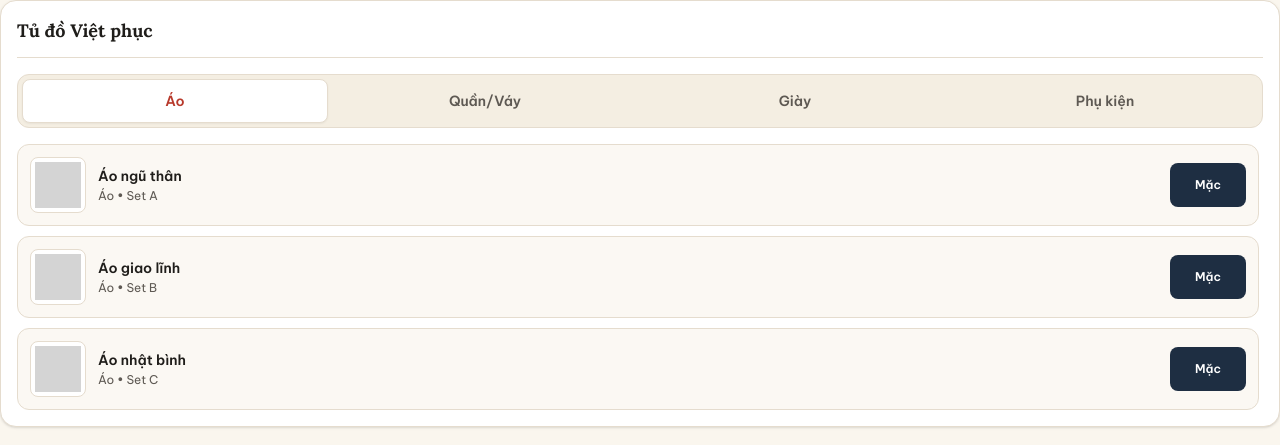
Scenario: T4: Wardrobe Tabs and Item Controls › filters items according to the active tab
The image size is (1280, 445).
Expected: the text "Áo ngũ thân" is shown, [98,166,182,186]
Expected: the text "Áo giao lĩnh" is shown, [98,258,180,278]
# Click tab "Quần/Váy" (bottoms)
Click the tab "Quần/Váy".
click(485, 101)  # box [332,79,638,123]
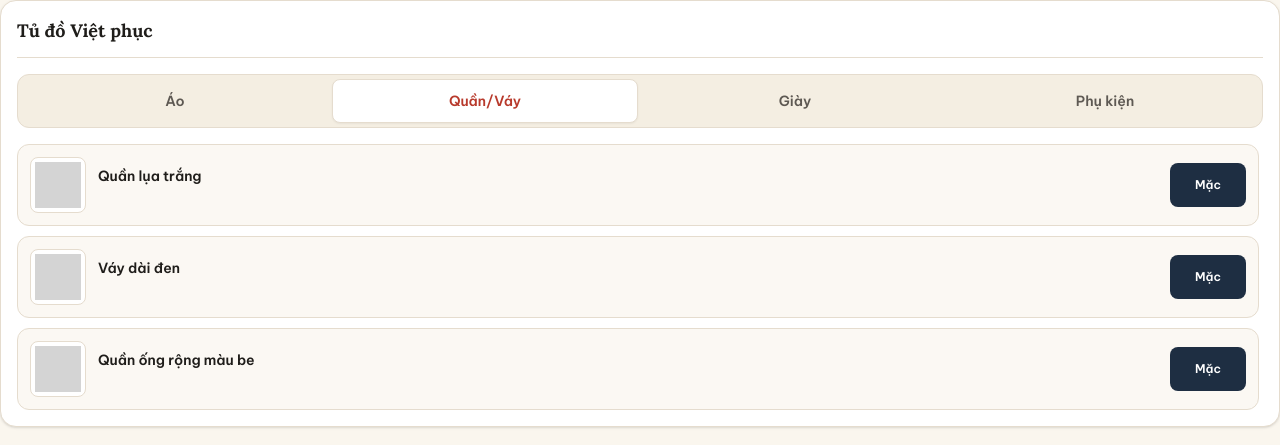
Now the text "Quần lụa trắng" is shown, box [98,166,202,186]
Now the text "Váy dài đen" is shown, box [98,258,180,278]
Now the text "Quần ống rộng màu be" is shown, box [98,350,255,370]
# Click tab "Giày" (shoes)
Click the tab "Giày".
click(795, 101)  # box [642,79,948,123]
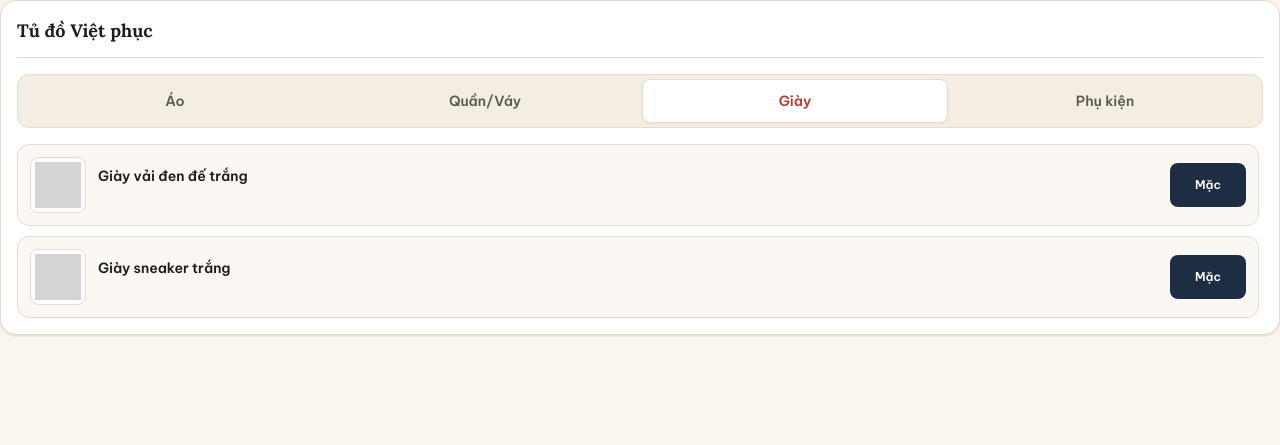
Now the text "Giày vải đen đế trắng" is shown, box [98,166,248,186]
Now the text "Giày sneaker trắng" is shown, box [98,258,230,278]
Now the text "Quần lụa trắng" is gone
# Click tab "Phụ kiện" (accessories: head)
Click the tab "Phụ kiện".
click(1105, 101)  # box [952,79,1258,123]
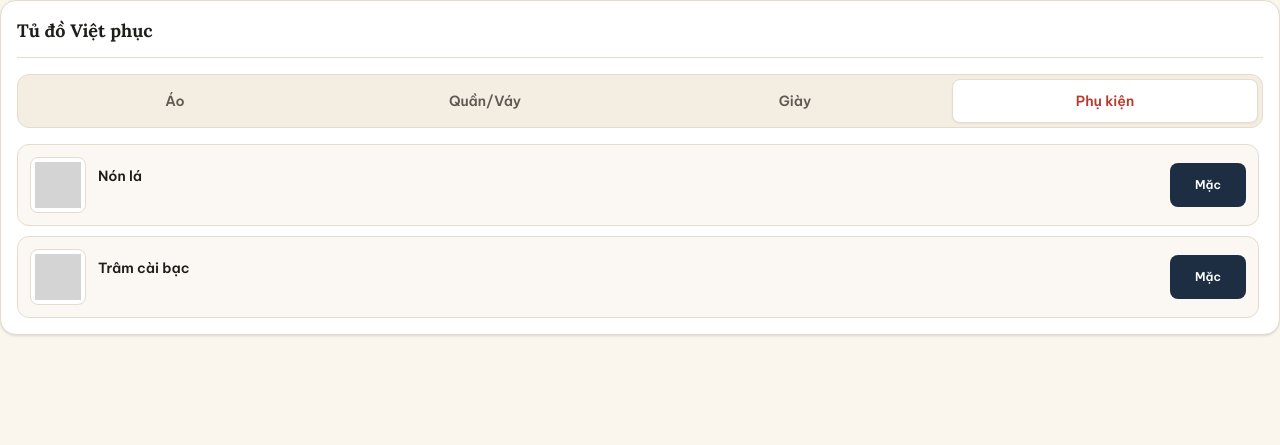
Now the text "Nón lá" is shown, box [98,166,142,186]
Now the text "Trâm cài bạc" is shown, box [98,258,190,278]
Now the text "Giày vải đen đế trắng" is gone
